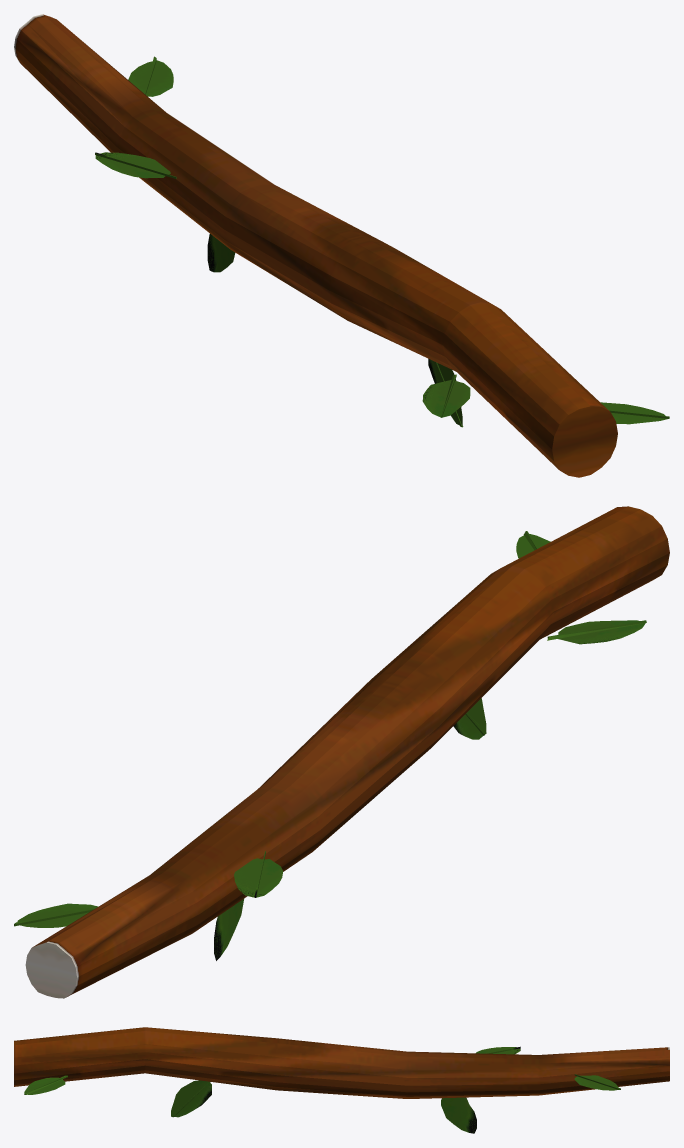
3 renders of one model, top to bottom at view 1: azimuth 30°, elevation 25°; view 2: azimuth 150°, elevation 25°; view 3: azimuth 270°, elevation 25°, orthographic. The views are drawn at different scales.
Visible parts, largest first — view 1: Az; view 2: Az; view 3: Az.
Part boxes in pixels (x1,y1,x2,y2): Az: (14,14,669,477); Az: (14,506,669,998); Az: (14,1027,669,1133).
Size of the model in its own units: 36.59 by 34.31 by 200.
1 material, 1 textured.
